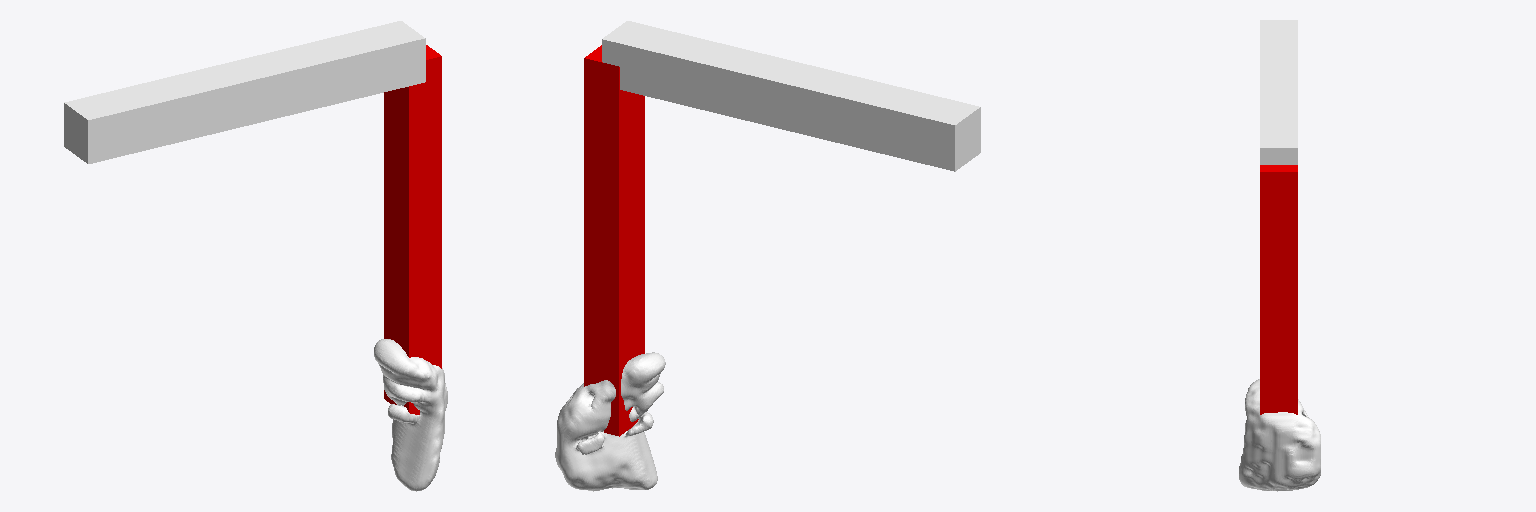
The robot description file, URDF, robot "distal_132.obj":
<robot name="distal_132.obj">
<link name="base_link">
    <inertial>
      <origin xyz="-0.04 0 0" rpy="0 0 1.57"/>
      <mass value="0.01"/> <inertia ixx="0.0001" ixy="0" ixz="0" iyy="0.0001" iyz="0" izz="0.0001"/>
    </inertial>
    <visual>
      <origin xyz="-0.04 -0.0 0" rpy="0 0 1.57"/>
      <geometry><box size="0.01 0.08 0.01"/></geometry>
      <material name="white"><color rgba="1 1 1 1"/></material>
    </visual>
    <collision>
      <origin xyz="-0.04 0 0" rpy="0 0 1.57"/>
      <geometry><box size="0.01 0.08 0.01"/></geometry>
    </collision>
  </link>

  <joint name="load_cell_joint" type="fixed">
    <parent link="base_link"/>
    <child link="pin_link"/>
    <origin xyz="0 0 0" rpy="0 0 0"/>
  </joint>

  <link name="pin_link">
    <inertial>
      <origin xyz="0 0 -0.04" rpy="0 0 0"/>
      <mass value="0.01"/> <inertia ixx="0.0001" ixy="0" ixz="0" iyy="0.0001" iyz="0" izz="0.0001"/>
    </inertial>
    <visual>
      <origin xyz="0 0 -0.04" rpy="0 0 0"/>
      <geometry><box size="0.008 0.01 0.08"/></geometry>
      <material name="red"><color rgba="1 0 0 1"/></material>
    </visual>
    <collision>
      <origin xyz="0 0 -0.04" rpy="0 0 0"/>
      <geometry><box size="0.008 0.01 0.08"/></geometry>
    </collision>
  </link>

  <joint name="ankle_mount_joint" type="fixed">
    <parent link="pin_link"/>
    <child link="moving_link"/>
    <origin xyz="-0.0 0. -0.08" rpy="0 0 0"/>
  </joint>
	<link name="moving_link">
		<visual>
			<origin rpy="1.57 0.0 0" xyz="0 0 0" />
			<geometry>
				<mesh filename="distal1322.obj" scale="1 1 1" />
			</geometry>
			<material name="texture">
				<color rgba="1.0 1.0 1.0 1.0" />
			</material>
		</visual>
		<collision>
			<origin rpy="1.57 0.0 0.0" xyz="0 0 0" />
			<geometry>
				<mesh filename="distal_132_vhacd.obj" scale="1 1 1" />
			</geometry>
		</collision>
		<inertial>
			<mass value="1.0" />
			<inertia ixx="1.0" ixy="0.0" ixz="0.0" iyy="1.0" iyz="0.0" izz="1.0" />
		</inertial>
	</link>
</robot>

--- Render facts (derived) ---
The picture shows the robot from 3 angles, left to right: view 1: azimuth 30°, elevation 25°; view 2: azimuth 150°, elevation 25°; view 3: azimuth 270°, elevation 25°; orthographic projection.
Robot: distal_132.obj — 3 links, 2 joints (2 fixed); root link base_link; default pose: every joint at zero.
Visible links, largest first — view 1: base_link, pin_link, moving_link; view 2: base_link, pin_link, moving_link; view 3: pin_link, moving_link, base_link.
Boxes of the visible links, x1,y1,x2,y2 form: base_link: [64, 21, 425, 163]; pin_link: [384, 45, 441, 414]; moving_link: [374, 339, 447, 491]; base_link: [602, 21, 980, 171]; pin_link: [584, 45, 644, 436]; moving_link: [555, 352, 665, 491]; pin_link: [1260, 165, 1297, 414]; moving_link: [1239, 379, 1320, 491]; base_link: [1260, 20, 1297, 164].
Size in the robot's own frame: 0.089 by 0.0219 by 0.1007 metres.
1 mesh visuals loaded from 1 distinct referenced files (1 OBJ).
